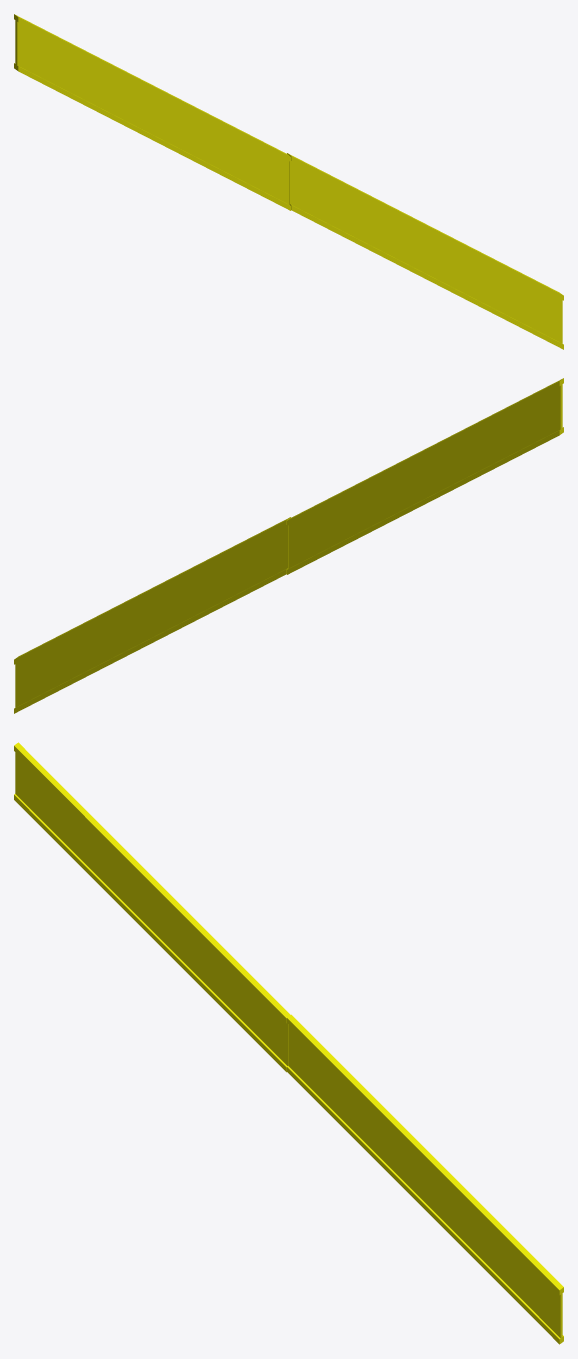
File: Metal_Stairs_03_Rail.fbx
3 renders of one model, top to bottom at view 1: azimuth 30°, elevation 25°; view 2: azimuth 150°, elevation 25°; view 3: azimuth 330°, elevation 25°, orthographic.
Parts seen in each view (by area): view 1: Metal_Stairs_03_Rail; view 2: Metal_Stairs_03_Rail; view 3: Metal_Stairs_03_Rail.
Part boxes in pixels (x1,y1,x2,y2): Metal_Stairs_03_Rail: (14,14,563,349); Metal_Stairs_03_Rail: (14,378,563,713); Metal_Stairs_03_Rail: (14,742,563,1344).
Size of the model in its own units: 594 by 484 by 8.33.
